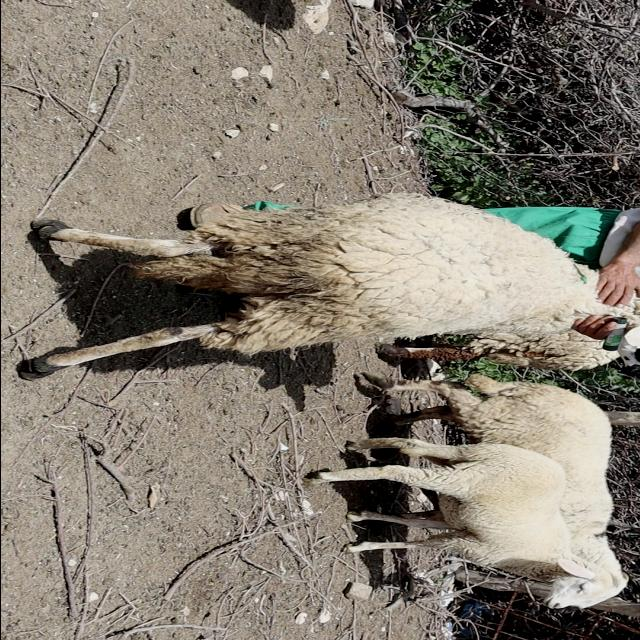Score_5: (21, 194, 640, 379)
